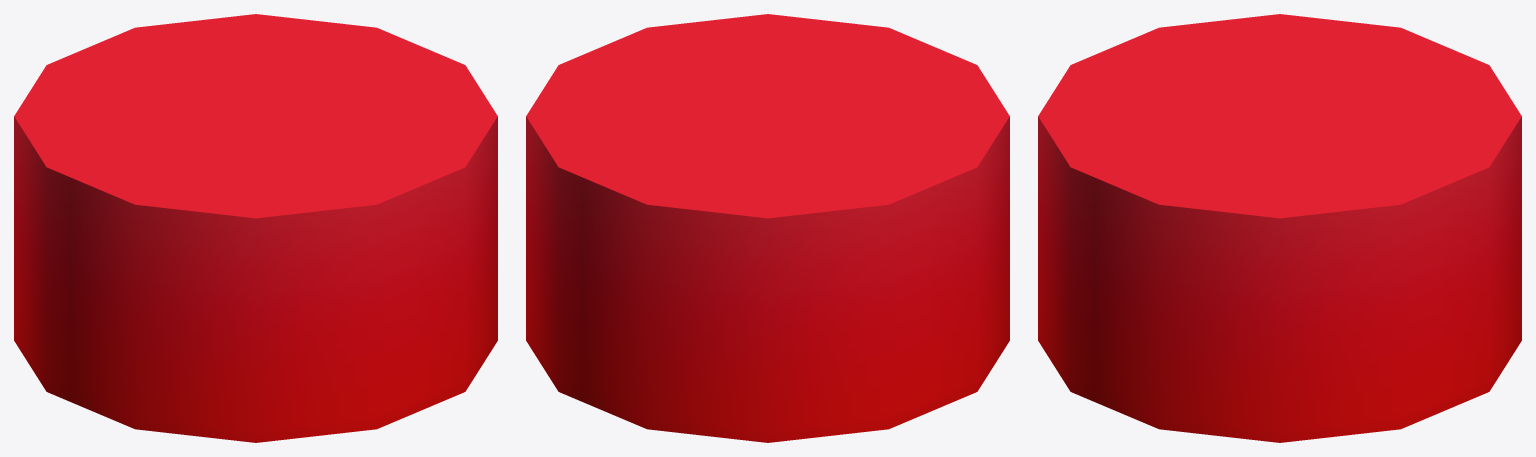
Rendered from logicCube_circle.fbx.
3 renders of one model, left to right at view 1: azimuth 30°, elevation 25°; view 2: azimuth 150°, elevation 25°; view 3: azimuth 270°, elevation 25°, orthographic.
Parts seen in each view (by area): view 1: logicCube_circle; view 2: logicCube_circle; view 3: logicCube_circle.
Part boxes in pixels (box(x1,y1,x2,y2)): logicCube_circle: box(14, 14, 497, 442); logicCube_circle: box(526, 14, 1009, 442); logicCube_circle: box(1038, 14, 1521, 442).
Size of the model in its own units: 6.04 by 3.1 by 6.04.
